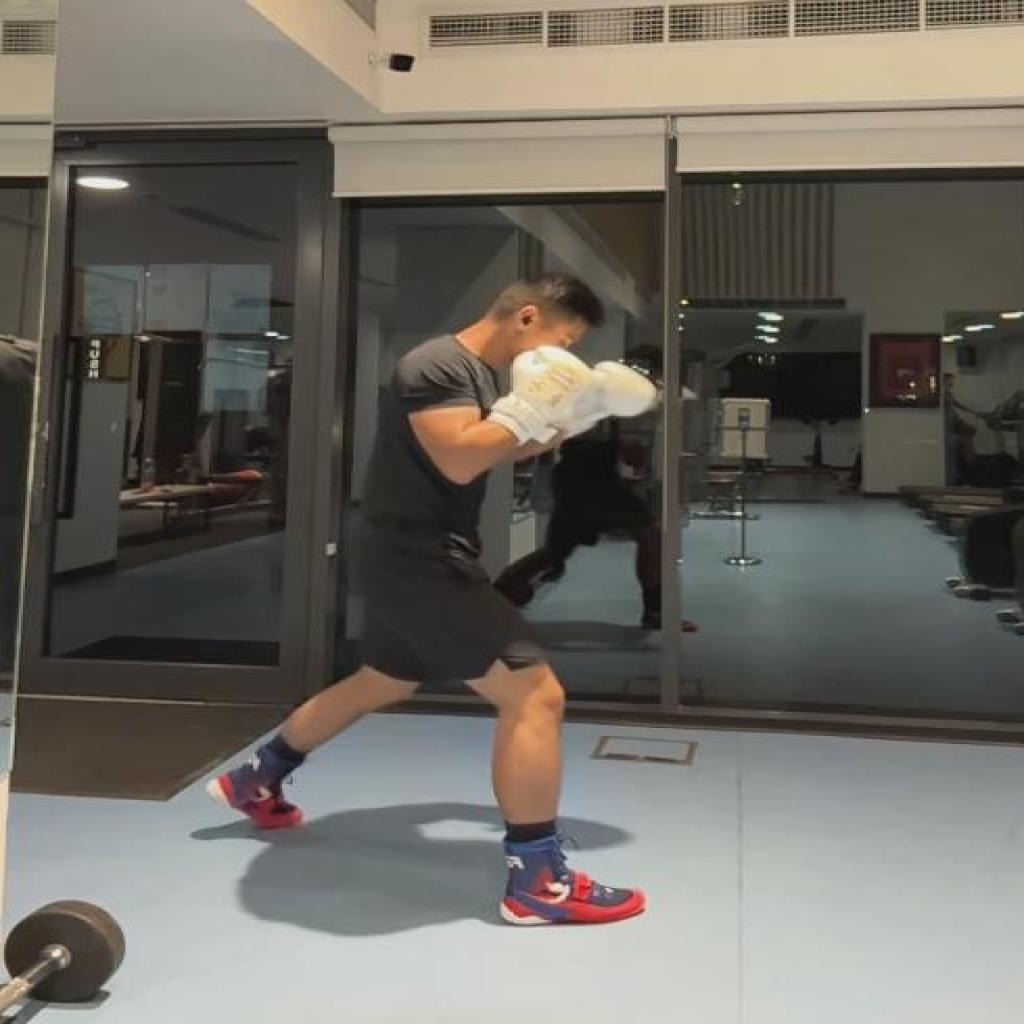no punch: (202, 269, 664, 931)
